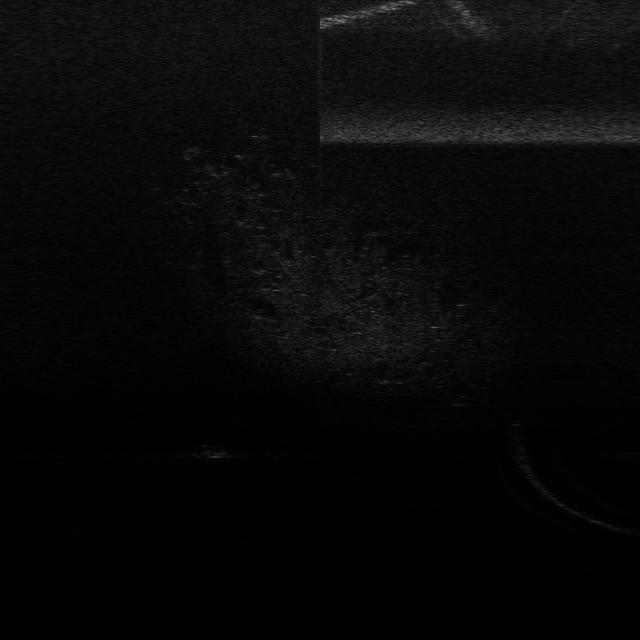square cage: (187, 438, 231, 462)
